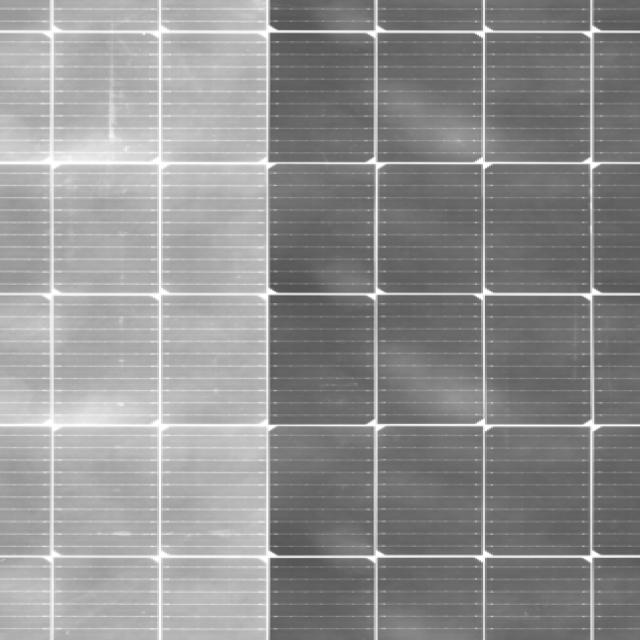CORRECT: (0, 0, 640, 638), (76, 113, 614, 616)
